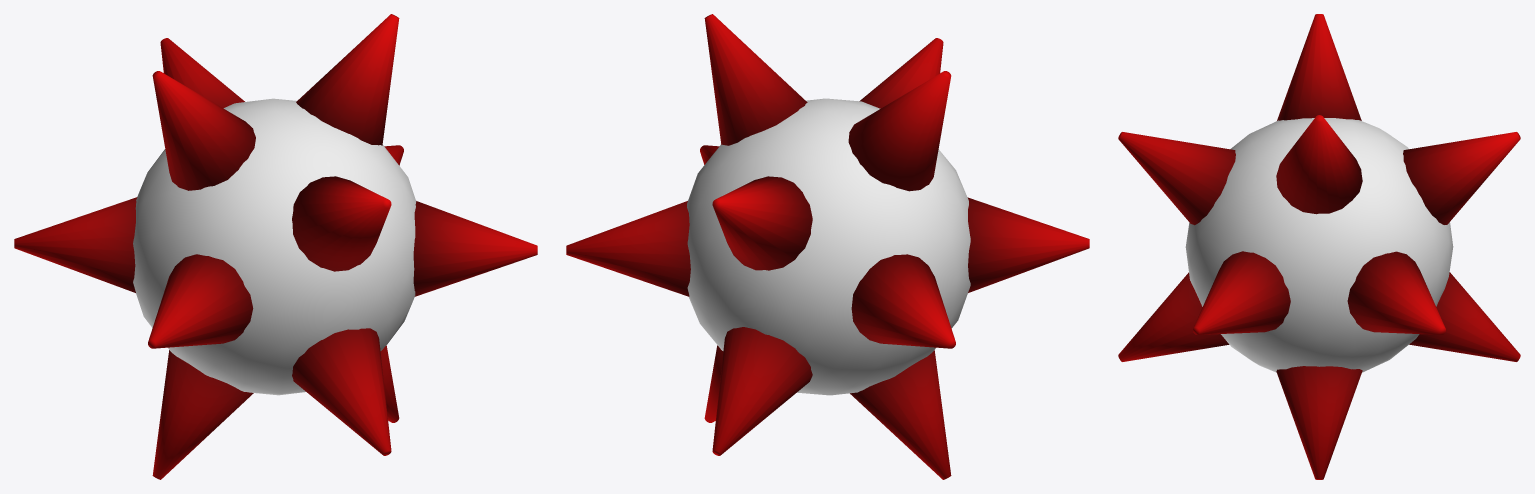
File: prop-spike.glb
3 renders of one model, left to right at view 1: azimuth 30°, elevation 25°; view 2: azimuth 150°, elevation 25°; view 3: azimuth 270°, elevation 25°, orthographic. The views are drawn at different scales.
Visible parts, largest first — view 1: spikes, core; view 2: spikes, core; view 3: spikes, core.
Boxes of the visible parts, bbox=[...] form: spikes: bbox=[14, 14, 537, 479]; core: bbox=[133, 98, 416, 395]; spikes: bbox=[566, 14, 1089, 479]; core: bbox=[687, 98, 970, 395]; spikes: bbox=[1118, 14, 1520, 479]; core: bbox=[1185, 118, 1453, 372].
Bounding box in the file's own units: 1.93 × 1.93 × 1.93.
